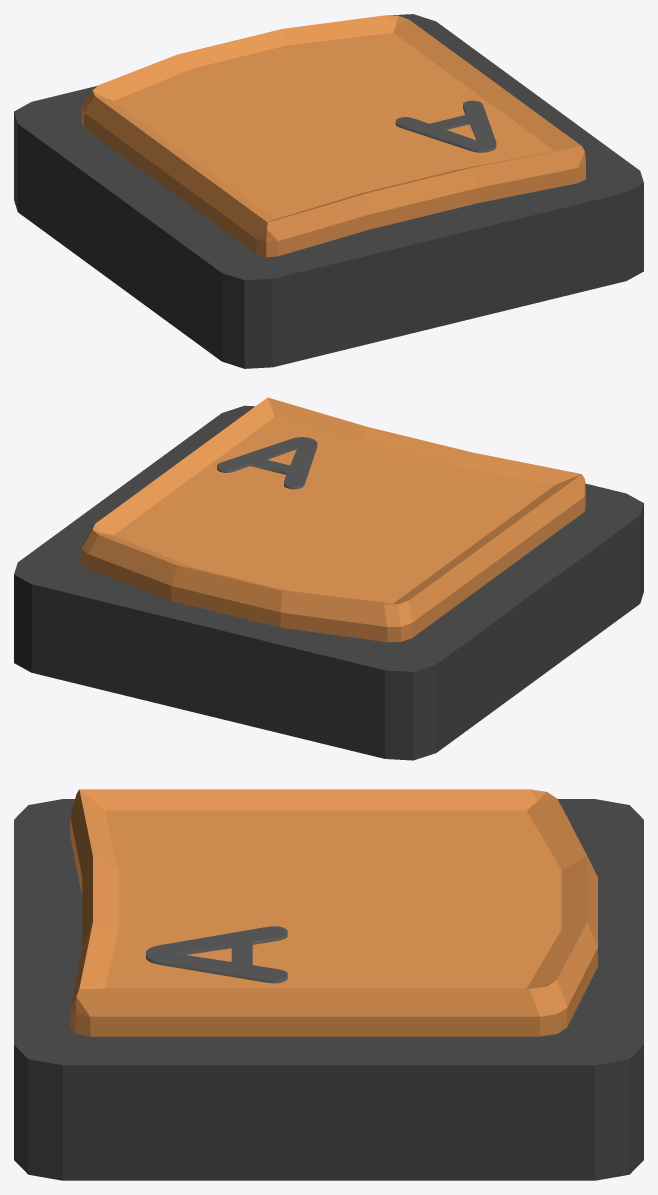
The model's file is Key.fbx.
3 views of the same model, one above another, from view 1: azimuth 30°, elevation 25°; view 2: azimuth 150°, elevation 25°; view 3: azimuth 270°, elevation 25° (orthographic). The views are drawn at different scales.
Parts seen in each view (by area): view 1: Cube.002, Cube; view 2: Cube.002, Cube; view 3: Cube, Cube.002.
Boxes of the visible parts, box(x1,y1,x2,y2) form: Cube.002: box(14, 14, 643, 368); Cube: box(81, 15, 585, 257); Cube.002: box(14, 405, 643, 760); Cube: box(81, 397, 585, 642); Cube: box(70, 789, 597, 1036); Cube.002: box(14, 799, 643, 1180).
Size of the model in its own units: 77.53 by 21.81 by 77.53.
